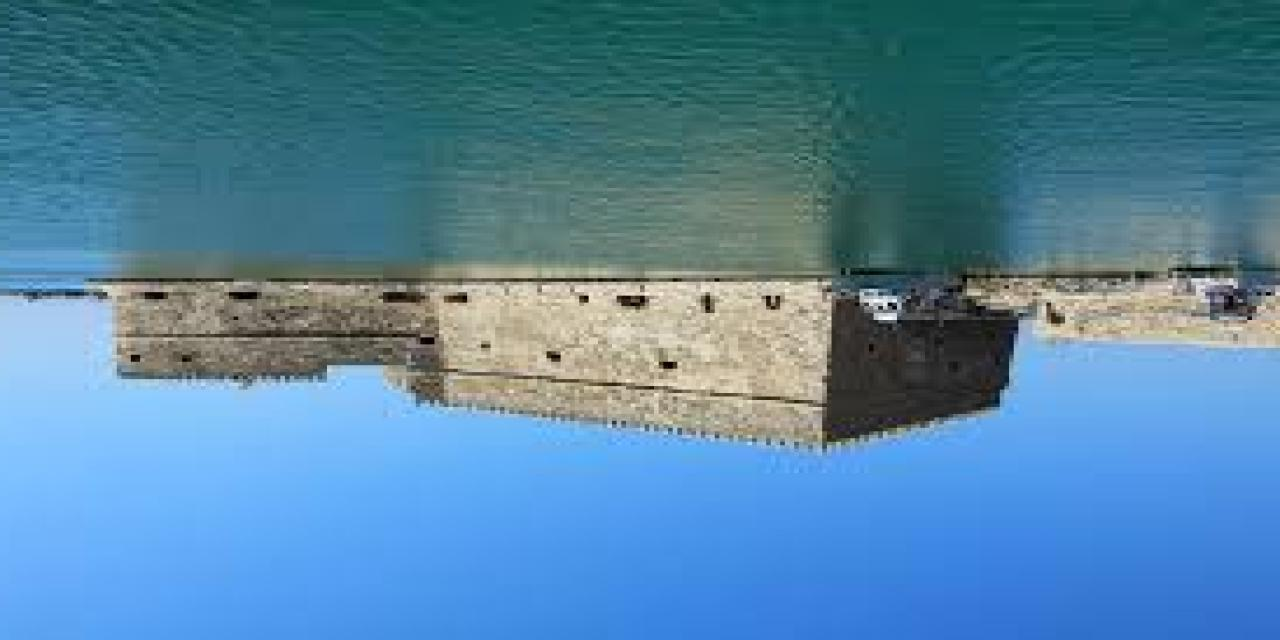Kules: (79, 277, 1022, 447)
